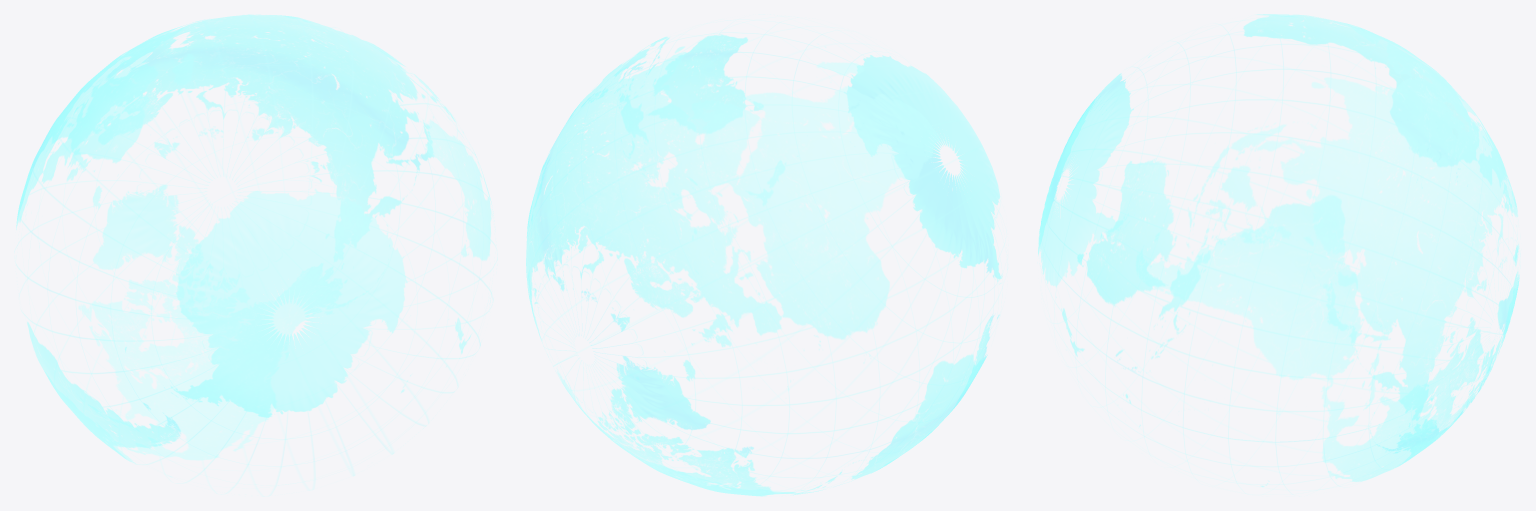
The model's file is holo-earth.glb.
3 renders of one model, left to right at view 1: azimuth 30°, elevation 25°; view 2: azimuth 150°, elevation 25°; view 3: azimuth 270°, elevation 25°, orthographic.
Visible parts, largest first — view 1: Hologram; view 2: Hologram; view 3: Hologram.
Boxes of the visible parts, <box> form: Hologram: <box>16,14,497,496</box>; Hologram: <box>526,22,1007,496</box>; Hologram: <box>1038,14,1520,490</box>.
Bounding box in the file's own units: 1.3 × 1.3 × 1.3.
Materials: 1 (1 with a texture image).
